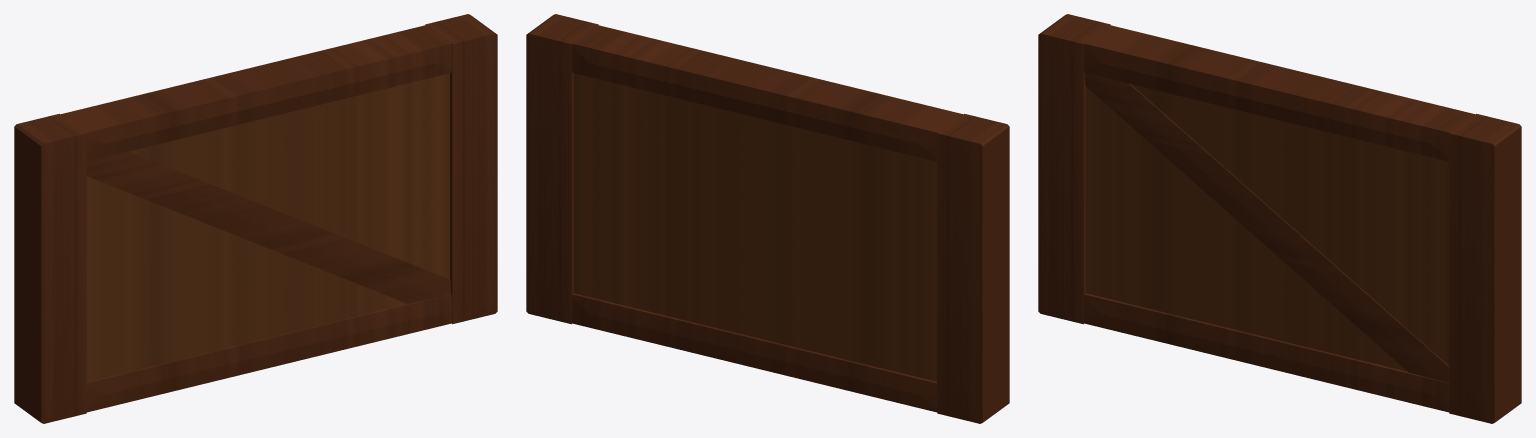
The model's file is Half_Wall_L_Slash_Wood.fbx.
The picture shows the model from 3 angles, left to right: view 1: azimuth 30°, elevation 25°; view 2: azimuth 150°, elevation 25°; view 3: azimuth 330°, elevation 25°; orthographic projection.
Visible parts, largest first — view 1: Half_Wall_L_Slash_Wood; view 2: Half_Wall_L_Slash_Wood; view 3: Half_Wall_L_Slash_Wood.
Part boxes in pixels (x1,y1,x2,y2): Half_Wall_L_Slash_Wood: (14,14,497,423); Half_Wall_L_Slash_Wood: (526,14,1009,423); Half_Wall_L_Slash_Wood: (1038,14,1521,423).
Bounding box in the file's own units: 212 × 124 × 23.4.
